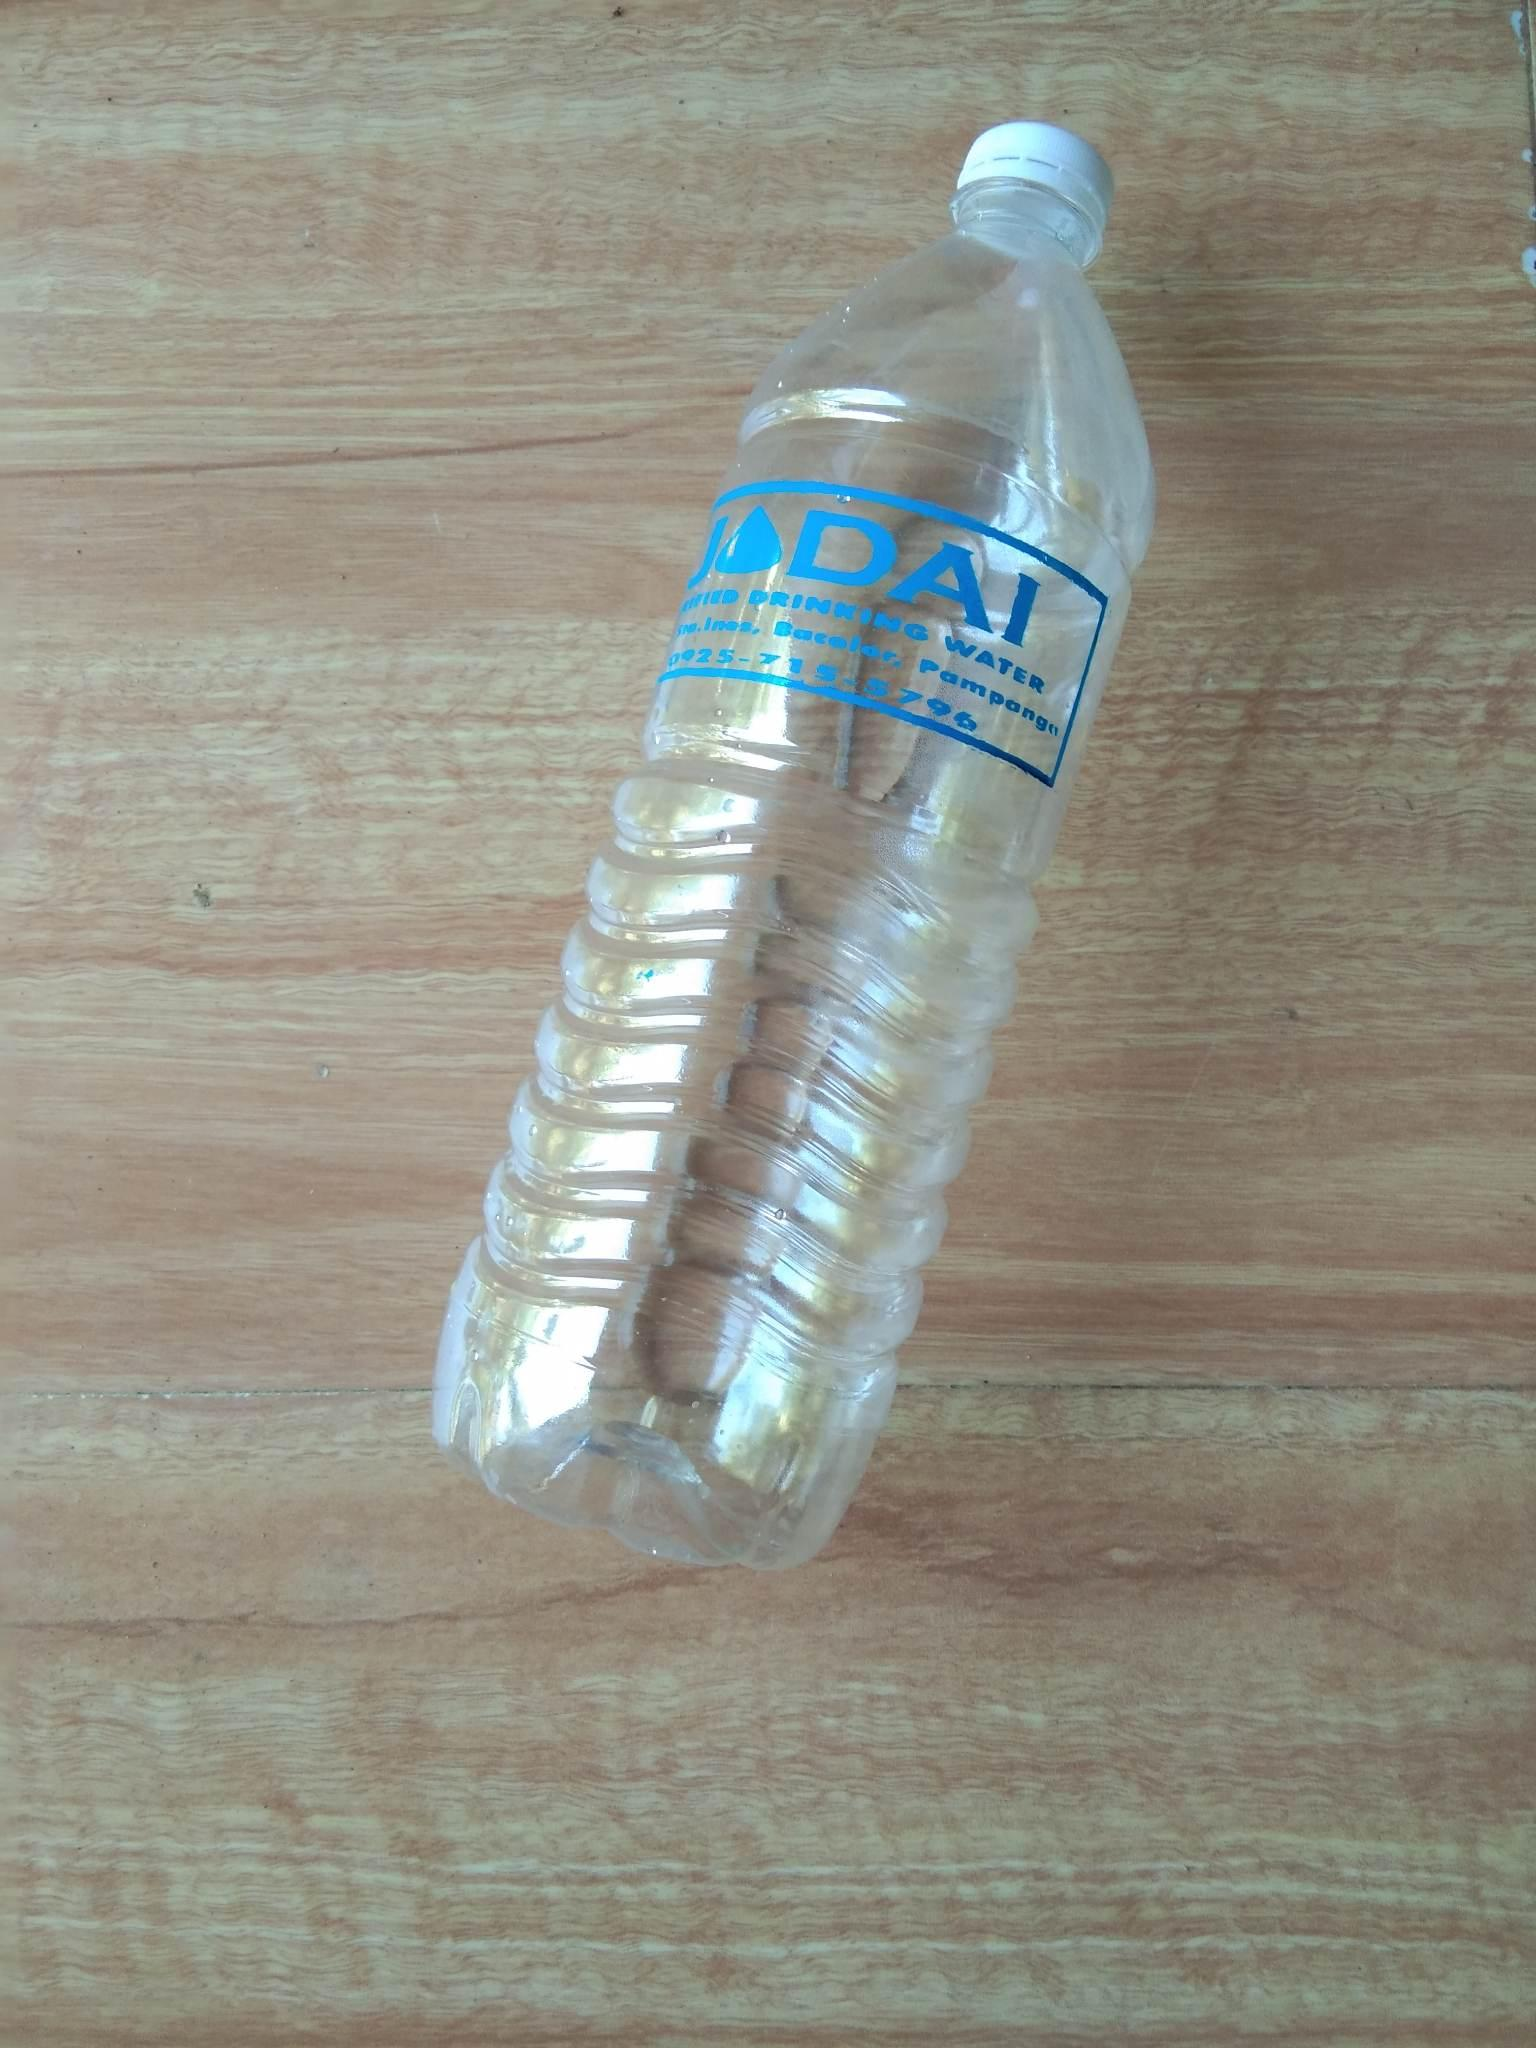plastic: (263, 97, 1333, 1596)
